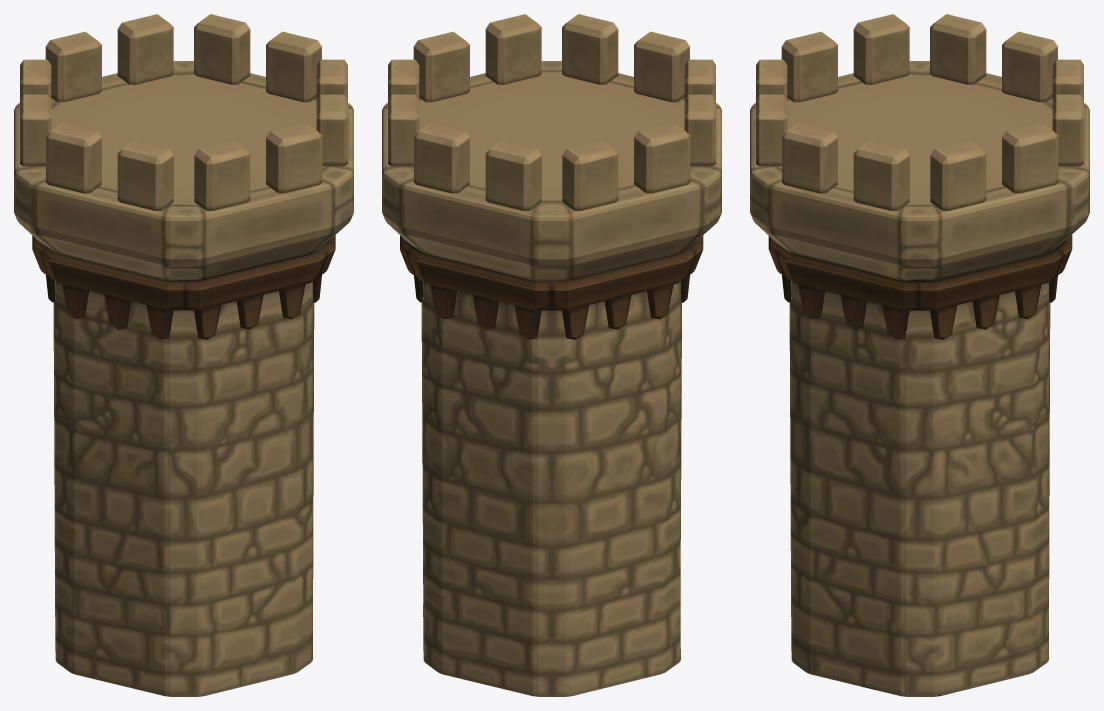
Rendered from tower03_model.glb.
3 renders of one model, left to right at view 1: azimuth 30°, elevation 25°; view 2: azimuth 150°, elevation 25°; view 3: azimuth 270°, elevation 25°, orthographic.
Parts seen in each view (by area): view 1: tower03_t4; view 2: tower03_t4; view 3: tower03_t4.
Part boxes in pixels (x1,y1,x2,y2): tower03_t4: (14,14,353,696); tower03_t4: (382,14,721,696); tower03_t4: (750,14,1089,696).
Size of what is drawn, in the model's own units: 5.6 by 9.13 by 5.1.
1 material, 1 textured.
